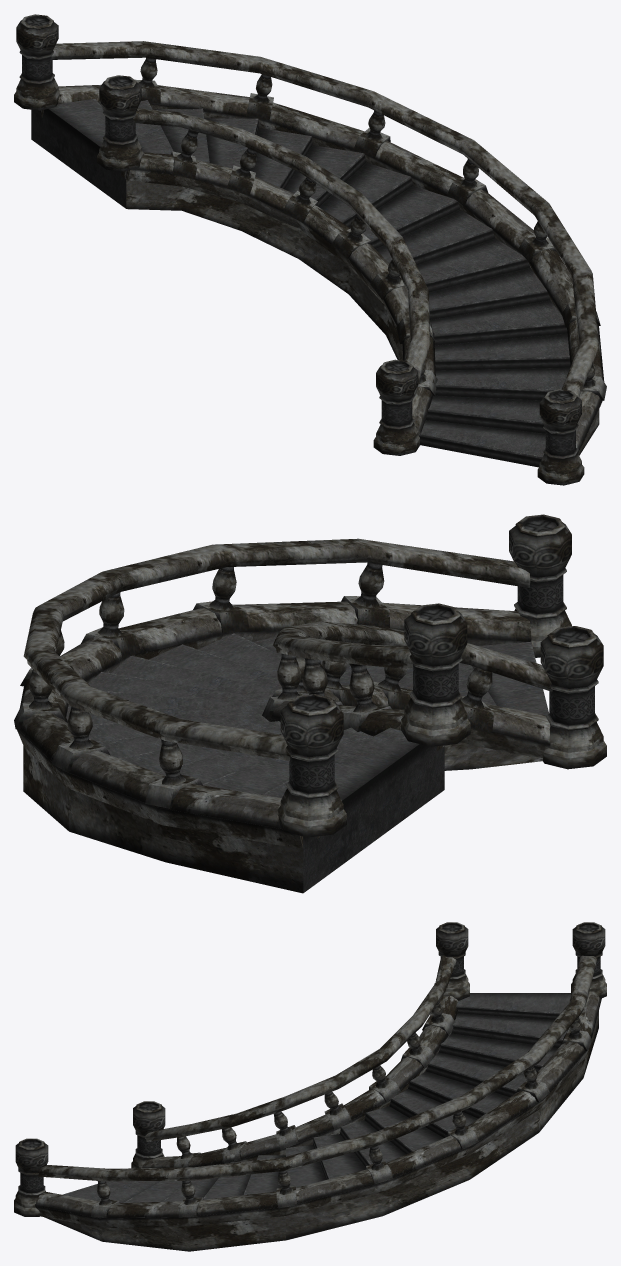
The model's file is round_floating_right.dae.
The picture shows the model from 3 angles, top to bottom: view 1: azimuth 30°, elevation 25°; view 2: azimuth 150°, elevation 25°; view 3: azimuth 270°, elevation 25°; orthographic projection. The views are drawn at different scales.
Parts seen in each view (by area): view 1: polySurface114, polySurface113, polySurface112; view 2: polySurface113, polySurface114, polySurface112; view 3: polySurface113, polySurface114, polySurface112.
Boxes of the visible parts, box(x1,y1,x2,y2) form: polySurface114: box(31, 99, 599, 467); polySurface113: box(41, 41, 606, 453); polySurface112: box(14, 14, 584, 485); polySurface113: box(14, 538, 552, 848); polySurface114: box(23, 633, 548, 893); polySurface112: box(277, 514, 606, 837); polySurface113: box(35, 955, 601, 1227); polySurface114: box(44, 993, 598, 1251); polySurface112: box(14, 922, 606, 1216).
Size of what is drawn, in the model's own units: 8.59 by 5.93 by 15.17.
